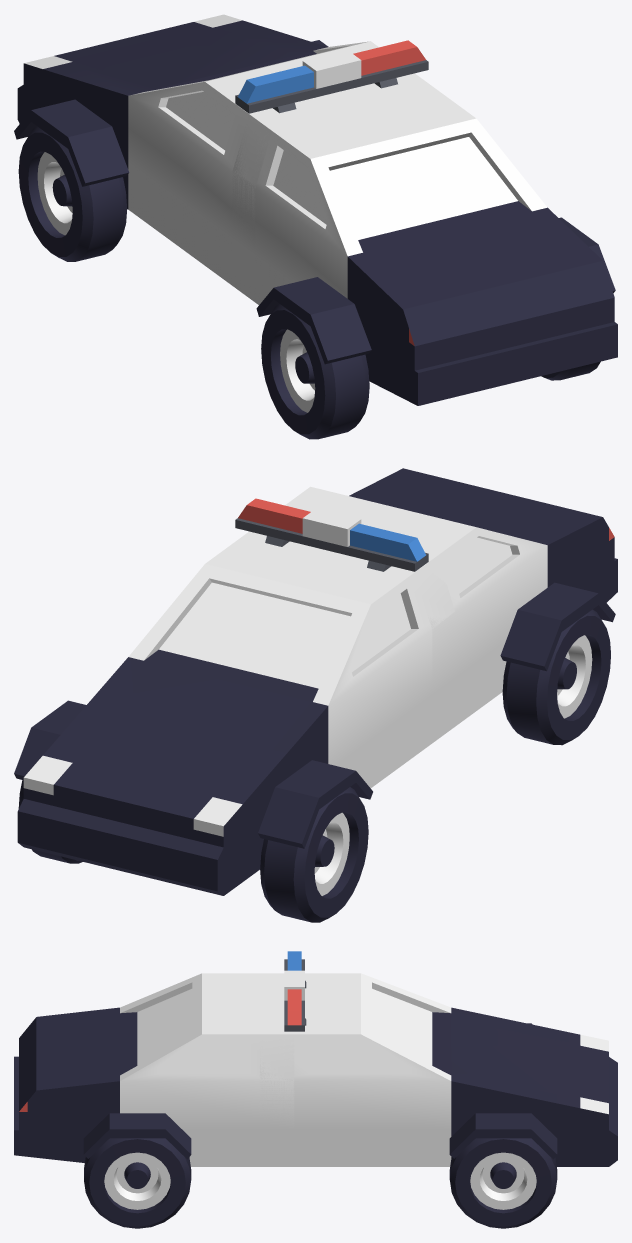
The model's file is PoliceCab.fbx.
The picture shows the model from 3 angles, top to bottom: view 1: azimuth 30°, elevation 25°; view 2: azimuth 150°, elevation 25°; view 3: azimuth 270°, elevation 25°; orthographic projection. The views are drawn at different scales.
Visible parts, largest first — view 1: windshield_default_38, hood_default_40, windshield_default_50, hood_short_46, wheel_truck_48, wheel_truck_42, detail_policeLights_51, detail_fenderSquare_47, detail_fenderSquare_49; view 2: hood_short_46, windshield_default_50, windshield_default_38, hood_default_40, wheel_truck_48, wheel_truck_42, detail_policeLights_51, detail_fenderSquare_47, detail_fenderSquare_49, detail_fenderSquare_53; view 3: windshield_default_50, windshield_default_38, hood_short_46, hood_default_40, wheel_truck_52, wheel_truck_54, detail_fenderSquare_53, detail_fenderSquare_55, detail_policeLights_51.
Boxes of the visible parts, left/top/right/bottom form: windshield_default_38: left=232, top=74, right=547, bottom=304; hood_default_40: left=347, top=207, right=617, bottom=405; windshield_default_50: left=128, top=41, right=425, bottom=287; hood_short_46: left=17, top=14, right=327, bottom=209; wheel_truck_48: left=261, top=304, right=369, bottom=439; wheel_truck_42: left=18, top=126, right=127, bottom=261; detail_policeLights_51: left=235, top=40, right=428, bottom=113; detail_fenderSquare_47: left=14, top=99, right=129, bottom=186; detail_fenderSquare_49: left=256, top=277, right=371, bottom=364; hood_short_46: left=17, top=657, right=328, bottom=895; windshield_default_50: left=128, top=531, right=454, bottom=788; windshield_default_38: left=285, top=486, right=547, bottom=742; hood_default_40: left=349, top=468, right=617, bottom=602; wheel_truck_48: left=502, top=609, right=610, bottom=745; wheel_truck_42: left=260, top=787, right=368, bottom=922; detail_policeLights_51: left=235, top=498, right=428, bottom=571; detail_fenderSquare_47: left=258, top=760, right=372, bottom=848; detail_fenderSquare_49: left=500, top=582, right=615, bottom=671; detail_fenderSquare_53: left=14, top=700, right=86, bottom=780; windshield_default_50: left=259, top=973, right=451, bottom=1166; windshield_default_38: left=120, top=973, right=294, bottom=1166; hood_short_46: left=451, top=1007, right=617, bottom=1166; hood_default_40: left=14, top=1007, right=119, bottom=1162; wheel_truck_52: left=449, top=1138, right=557, bottom=1228; wheel_truck_54: left=84, top=1138, right=191, bottom=1228; detail_fenderSquare_53: left=449, top=1113, right=557, bottom=1159; detail_fenderSquare_55: left=83, top=1113, right=191, bottom=1159; detail_policeLights_51: left=284, top=951, right=306, bottom=1031.
Size of the model in its own units: 14.4 by 12.67 by 34.66.
